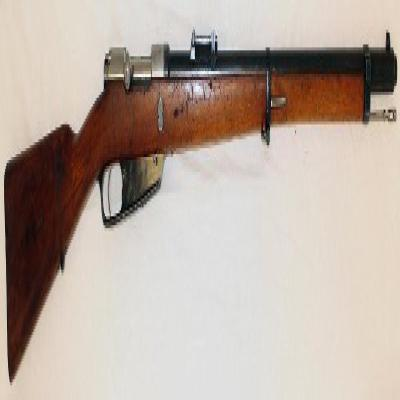weapon: (3, 30, 400, 382)
